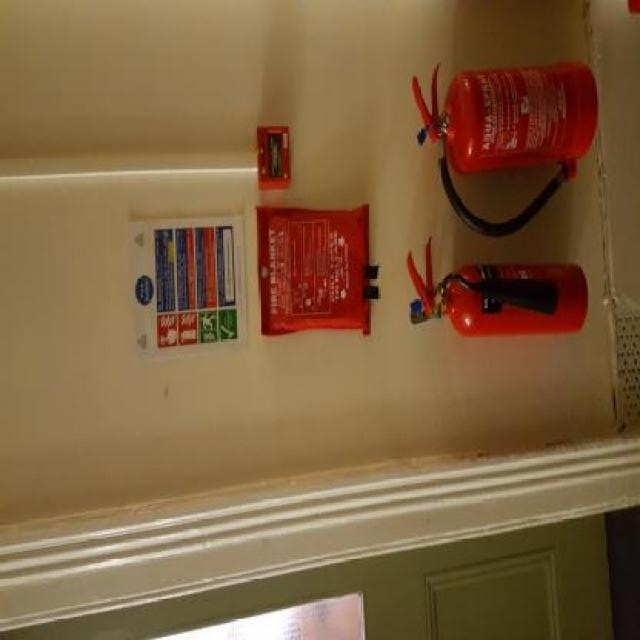fire extinguisher: (412, 62, 597, 238), (407, 239, 588, 336)
